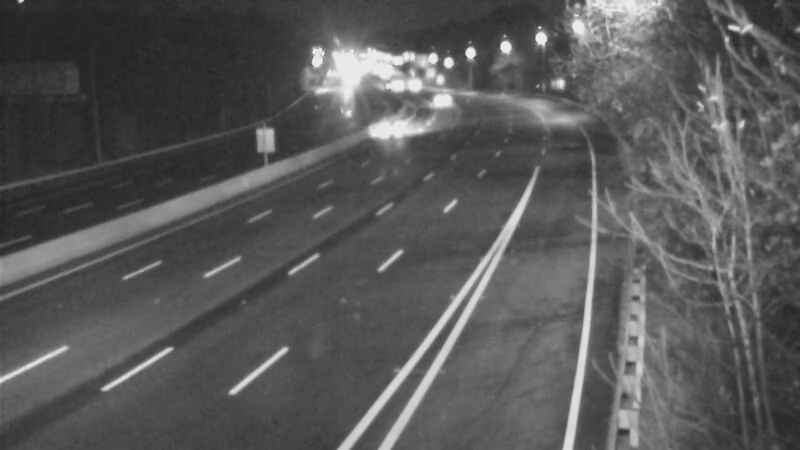vehicle: (420, 76, 470, 126), (364, 105, 414, 155)
